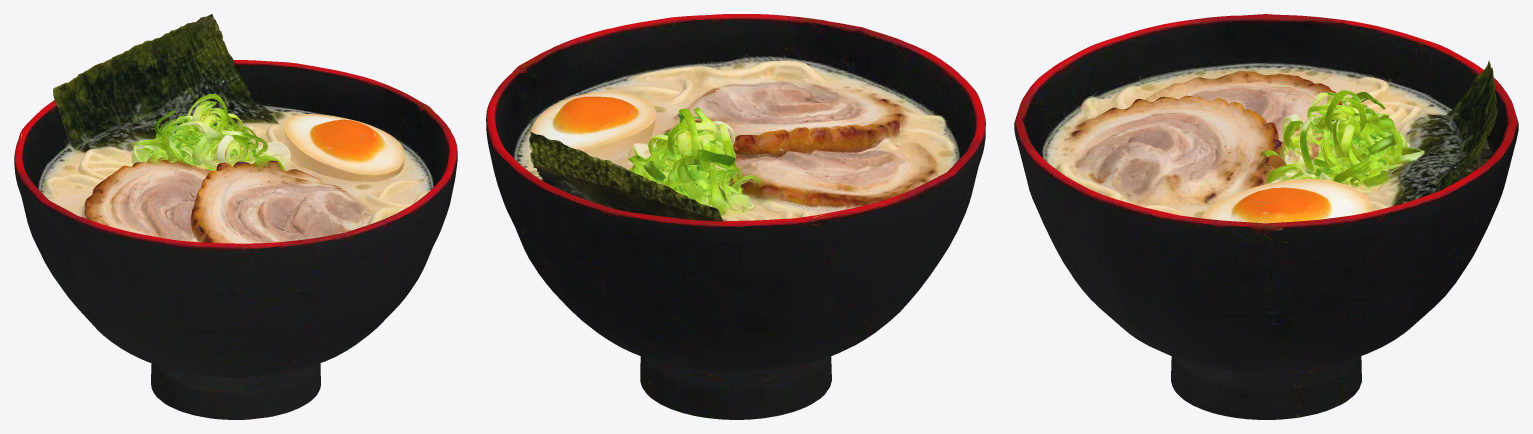
Rendered from ramen-bowl.glb.
3 renders of one model, left to right at view 1: azimuth 30°, elevation 25°; view 2: azimuth 150°, elevation 25°; view 3: azimuth 270°, elevation 25°, orthographic. The views are drawn at different scales.
Visible parts, largest first — view 1: Mesh_0; view 2: Mesh_0; view 3: Mesh_0.
Part boxes in pixels (x1,y1,x2,y2): Mesh_0: (14,14,457,419); Mesh_0: (486,14,985,419); Mesh_0: (1014,14,1518,419).
Size of the model in its own units: 1.9 by 1.29 by 1.9.
1 material, 1 textured.
